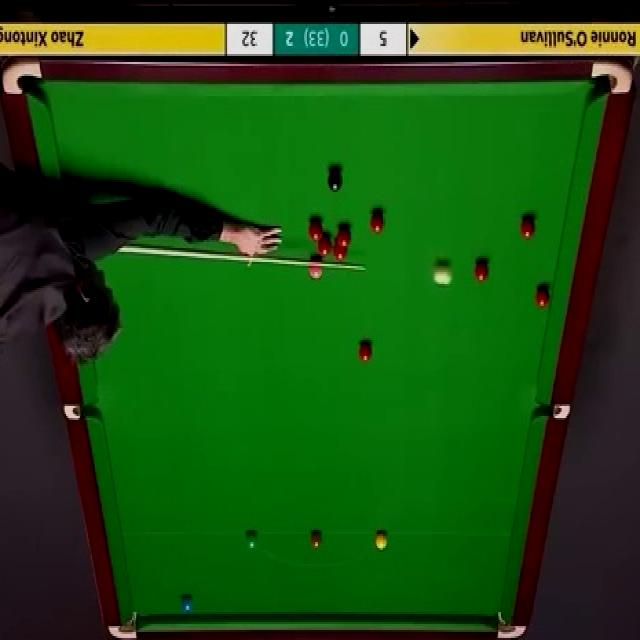pocket: (2, 60, 40, 100), (592, 63, 634, 97), (106, 611, 138, 640), (497, 614, 526, 640), (63, 403, 100, 422), (536, 404, 569, 418)
